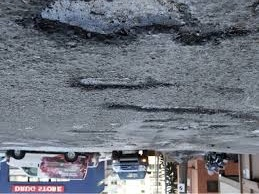pothole: (36, 0, 249, 43), (71, 67, 168, 96), (102, 103, 235, 113), (67, 123, 121, 136), (140, 114, 181, 125)
